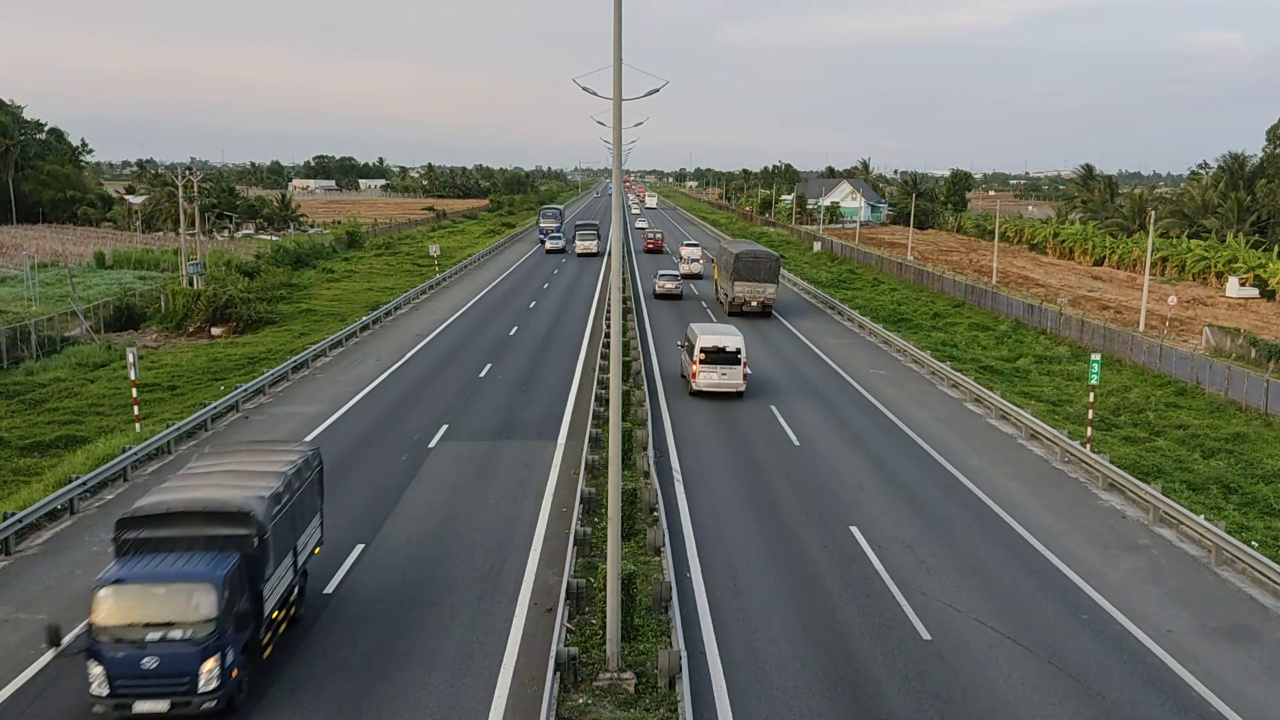bus: (713, 237, 781, 315)
car: (677, 315, 754, 402), (651, 269, 683, 299)
truck: (85, 439, 327, 715)
